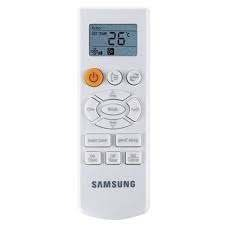remote control: (75, 7, 155, 221)
